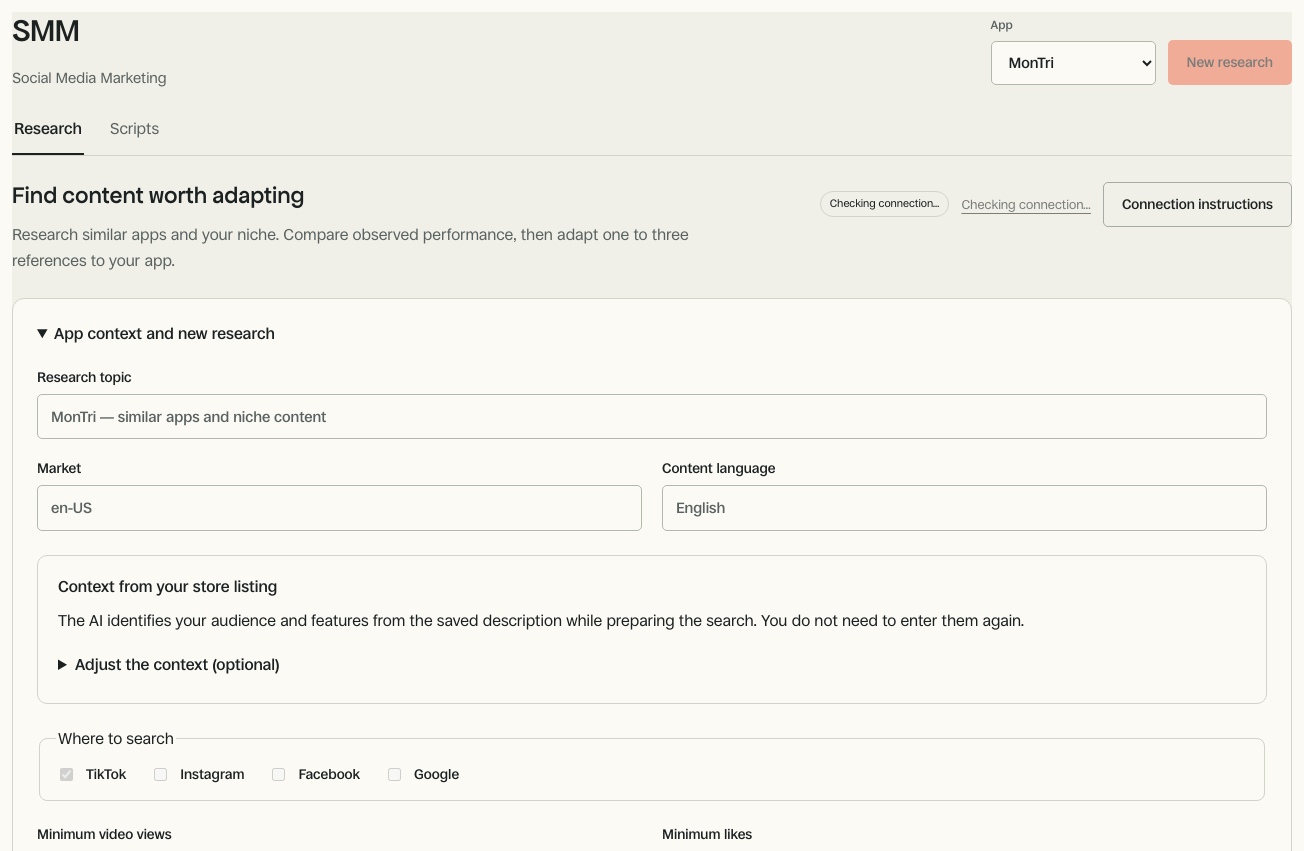
Test case: shows the frozen social context instead of the unrelated legacy generation form
Click the button "Scripts".
click(134, 136)  # box [108,118,161,155]
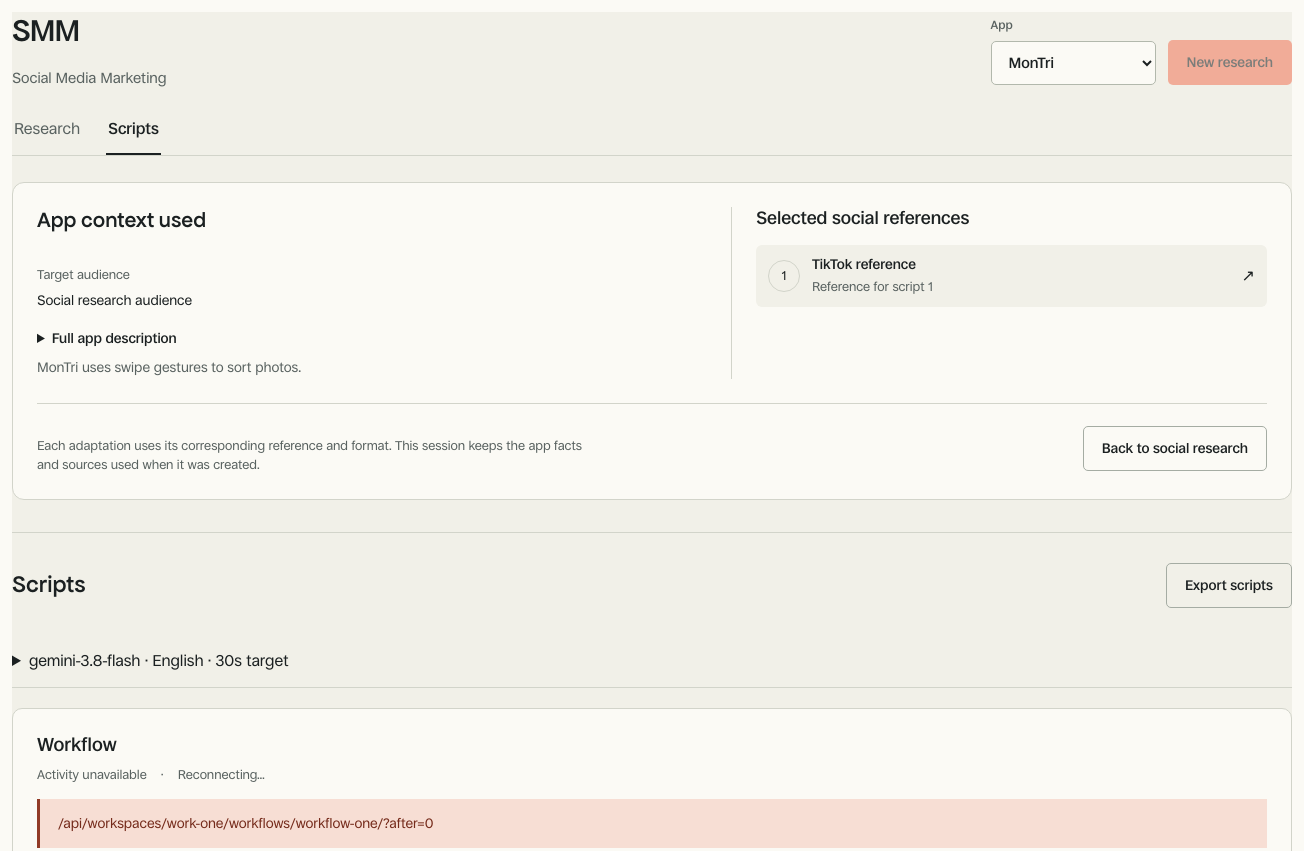
Now the heading "App context used" is shown, box [37,206,206,233]
Now the text "Social research audience" is shown, box [37,292,192,308]
